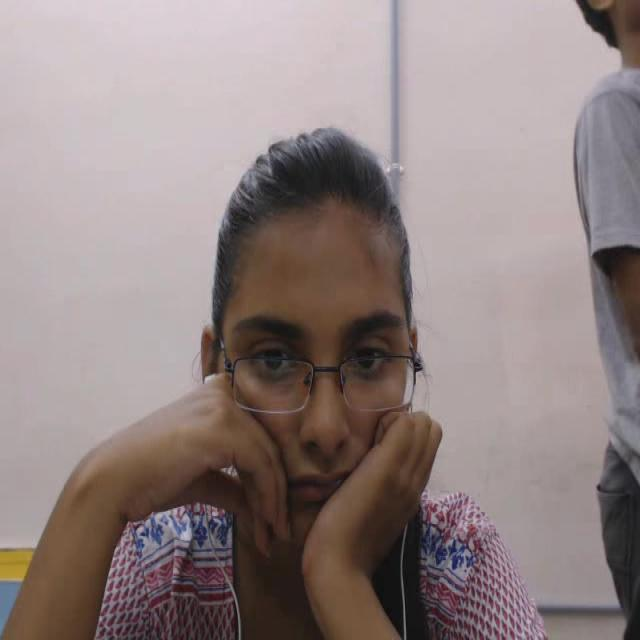Bored: (183, 102, 484, 593)
